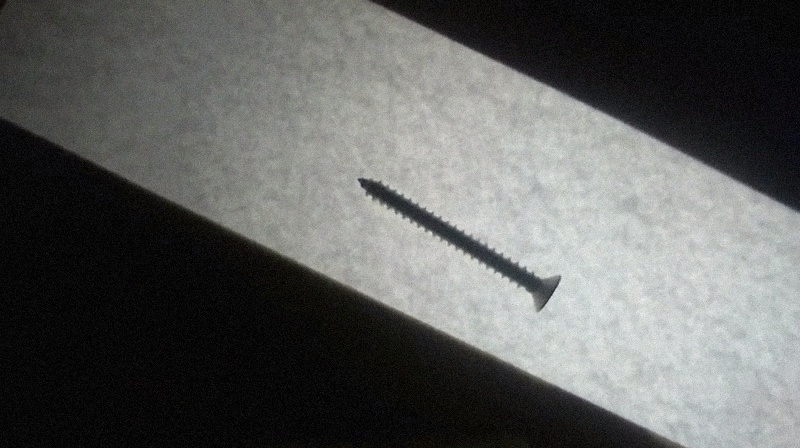S002: (353, 174, 565, 314)
